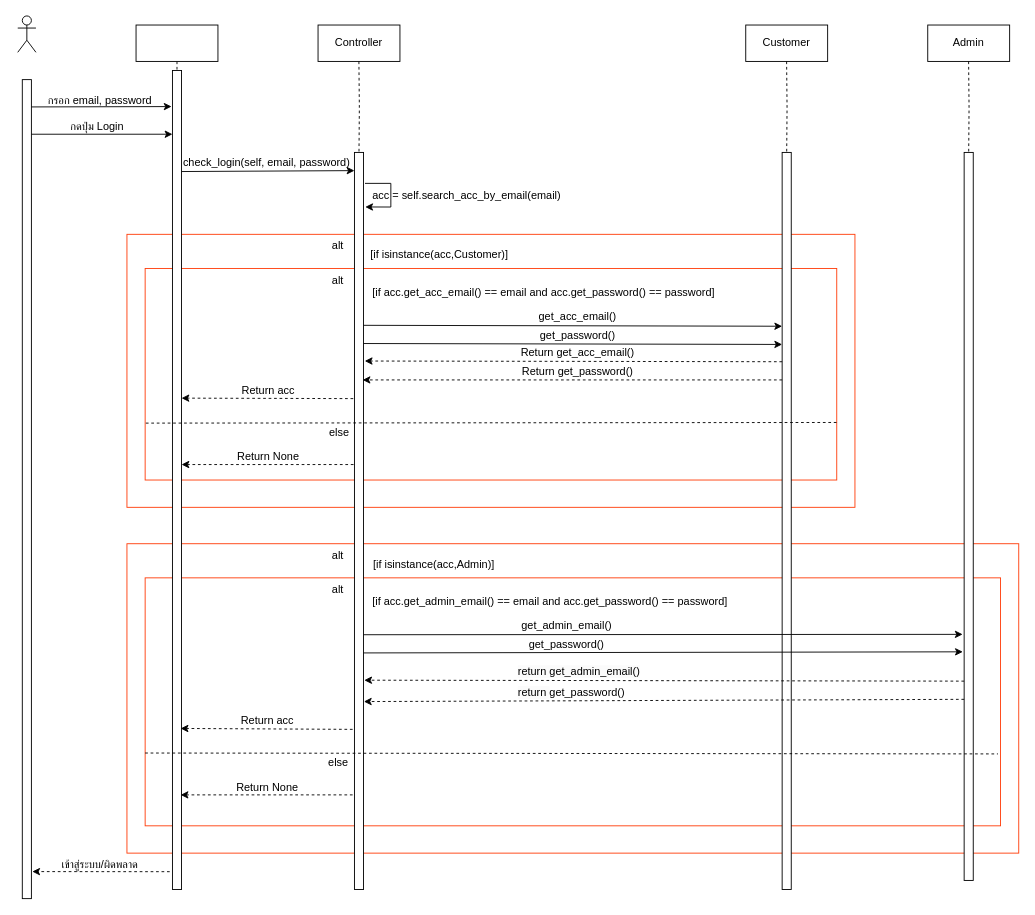
This 1035x915 diagram has some shape labels left out. The shapes that lost their labels are listed below. From the top down, each one's box as (x1, y1, x2, y2) in pixels, then its label:
(17, 15, 36, 52): User
(135, 24, 218, 61): UI
